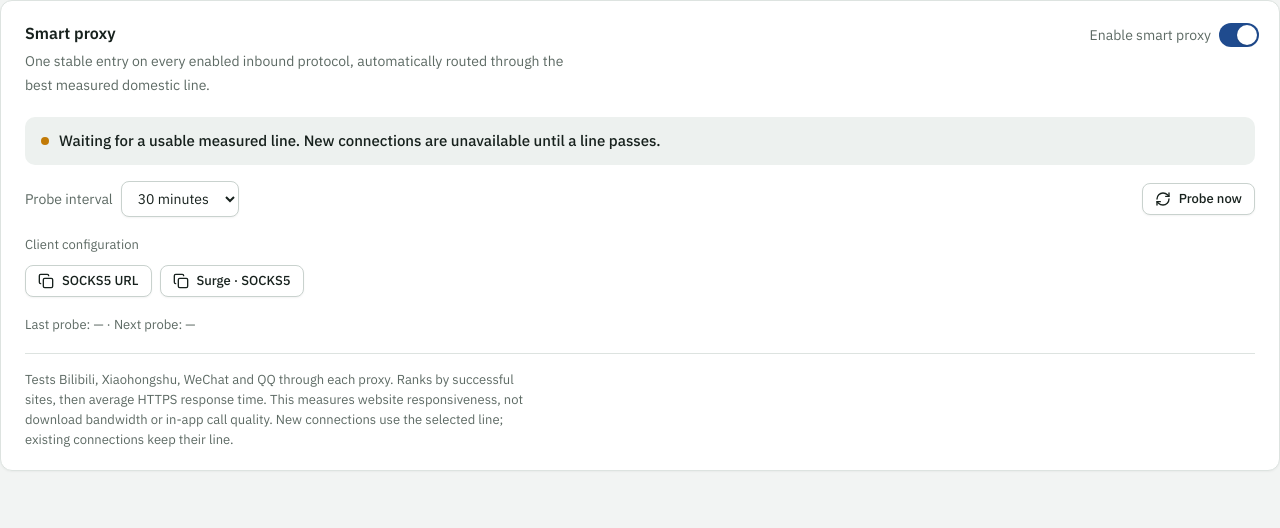
Test case: smart proxy asynchronous state › still falls back to legacy copying when the current session's native copy is denied
Click the button with aria-label "Copy smart route SOCKS5 URL".
click(88, 281)  # box [25,265,152,297]
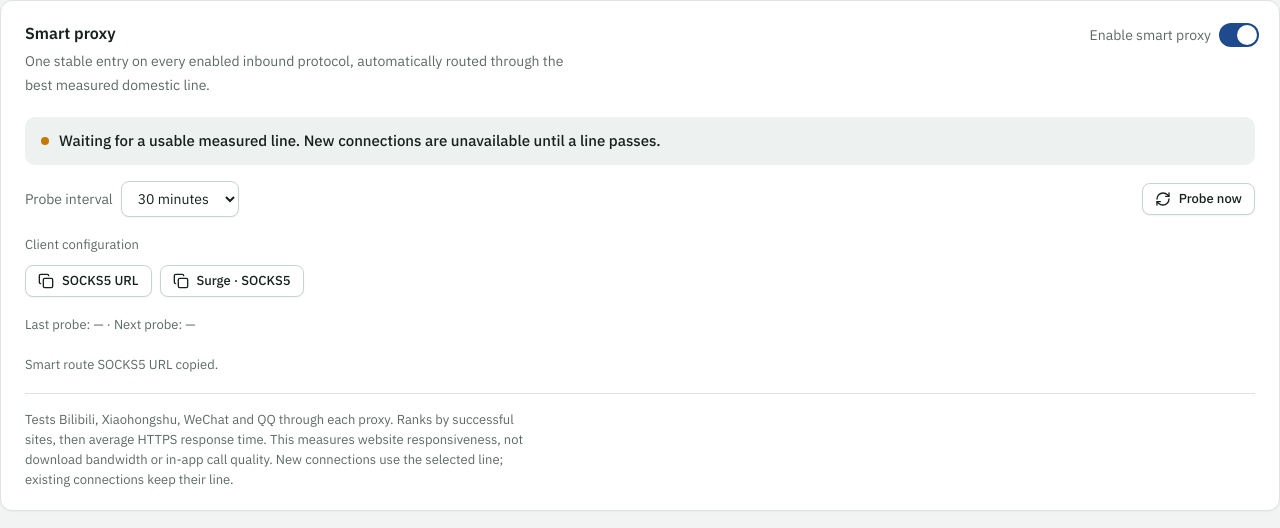
expect the message reads "Smart route SOCKS5 URL copied.": met, box [25,356,218,373]
